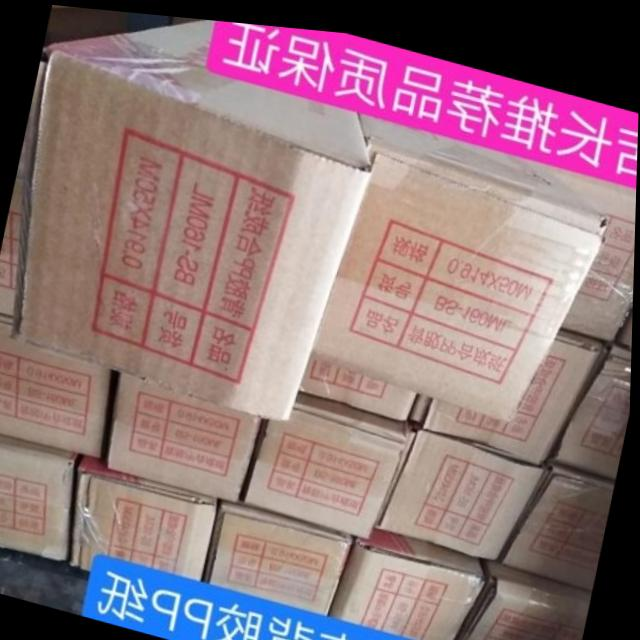box: (21, 15, 373, 418), (312, 105, 612, 412), (409, 316, 610, 454), (244, 390, 417, 537), (379, 420, 548, 551), (110, 370, 265, 498), (332, 520, 487, 638), (74, 455, 218, 575), (0, 315, 120, 456), (208, 496, 355, 609), (545, 152, 637, 332), (501, 451, 616, 578), (450, 547, 595, 640), (552, 333, 633, 471), (0, 434, 87, 561), (0, 64, 42, 318), (298, 349, 422, 418), (48, 4, 148, 41), (617, 296, 634, 337)
